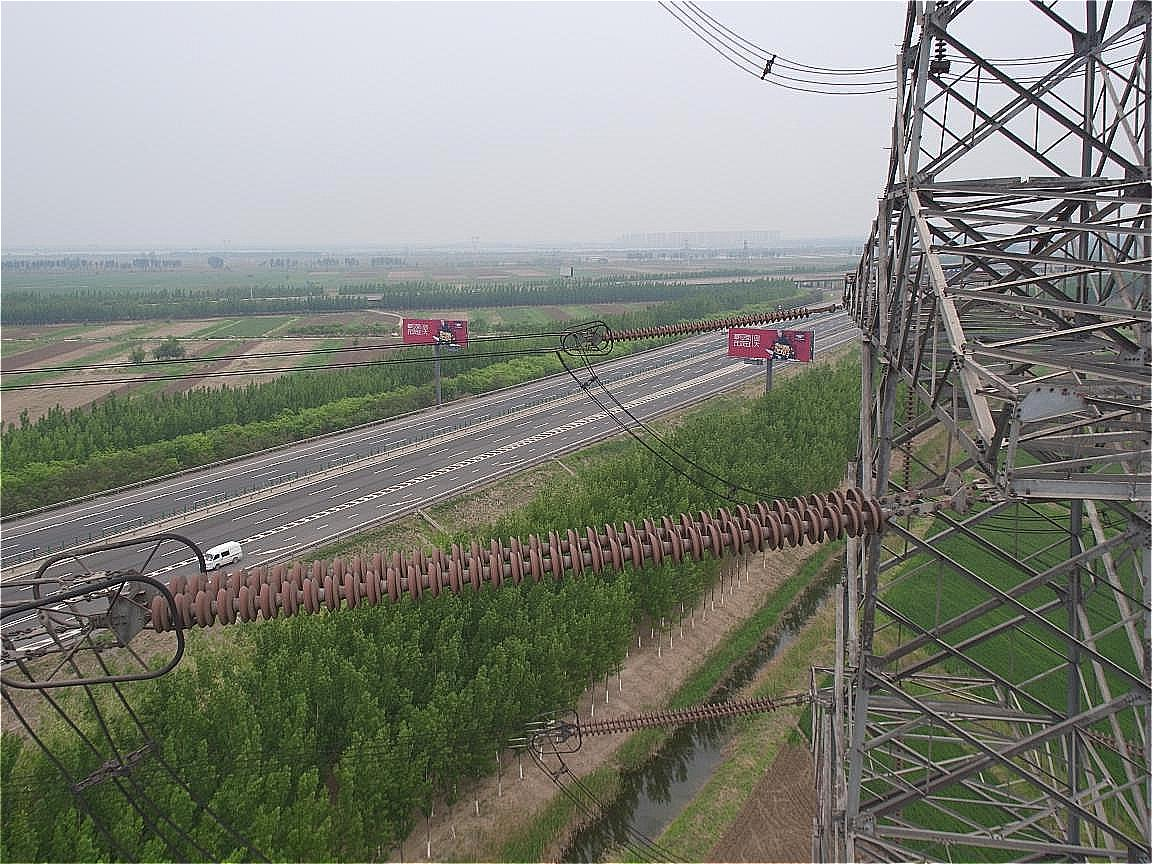insultor1: (547, 688, 787, 744)
insultor2: (128, 480, 899, 638)
